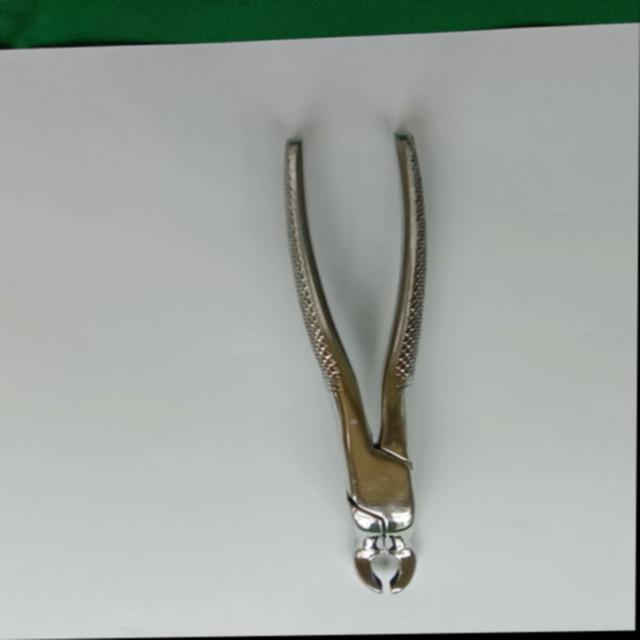BayonetForcep: (266, 128, 459, 598)
